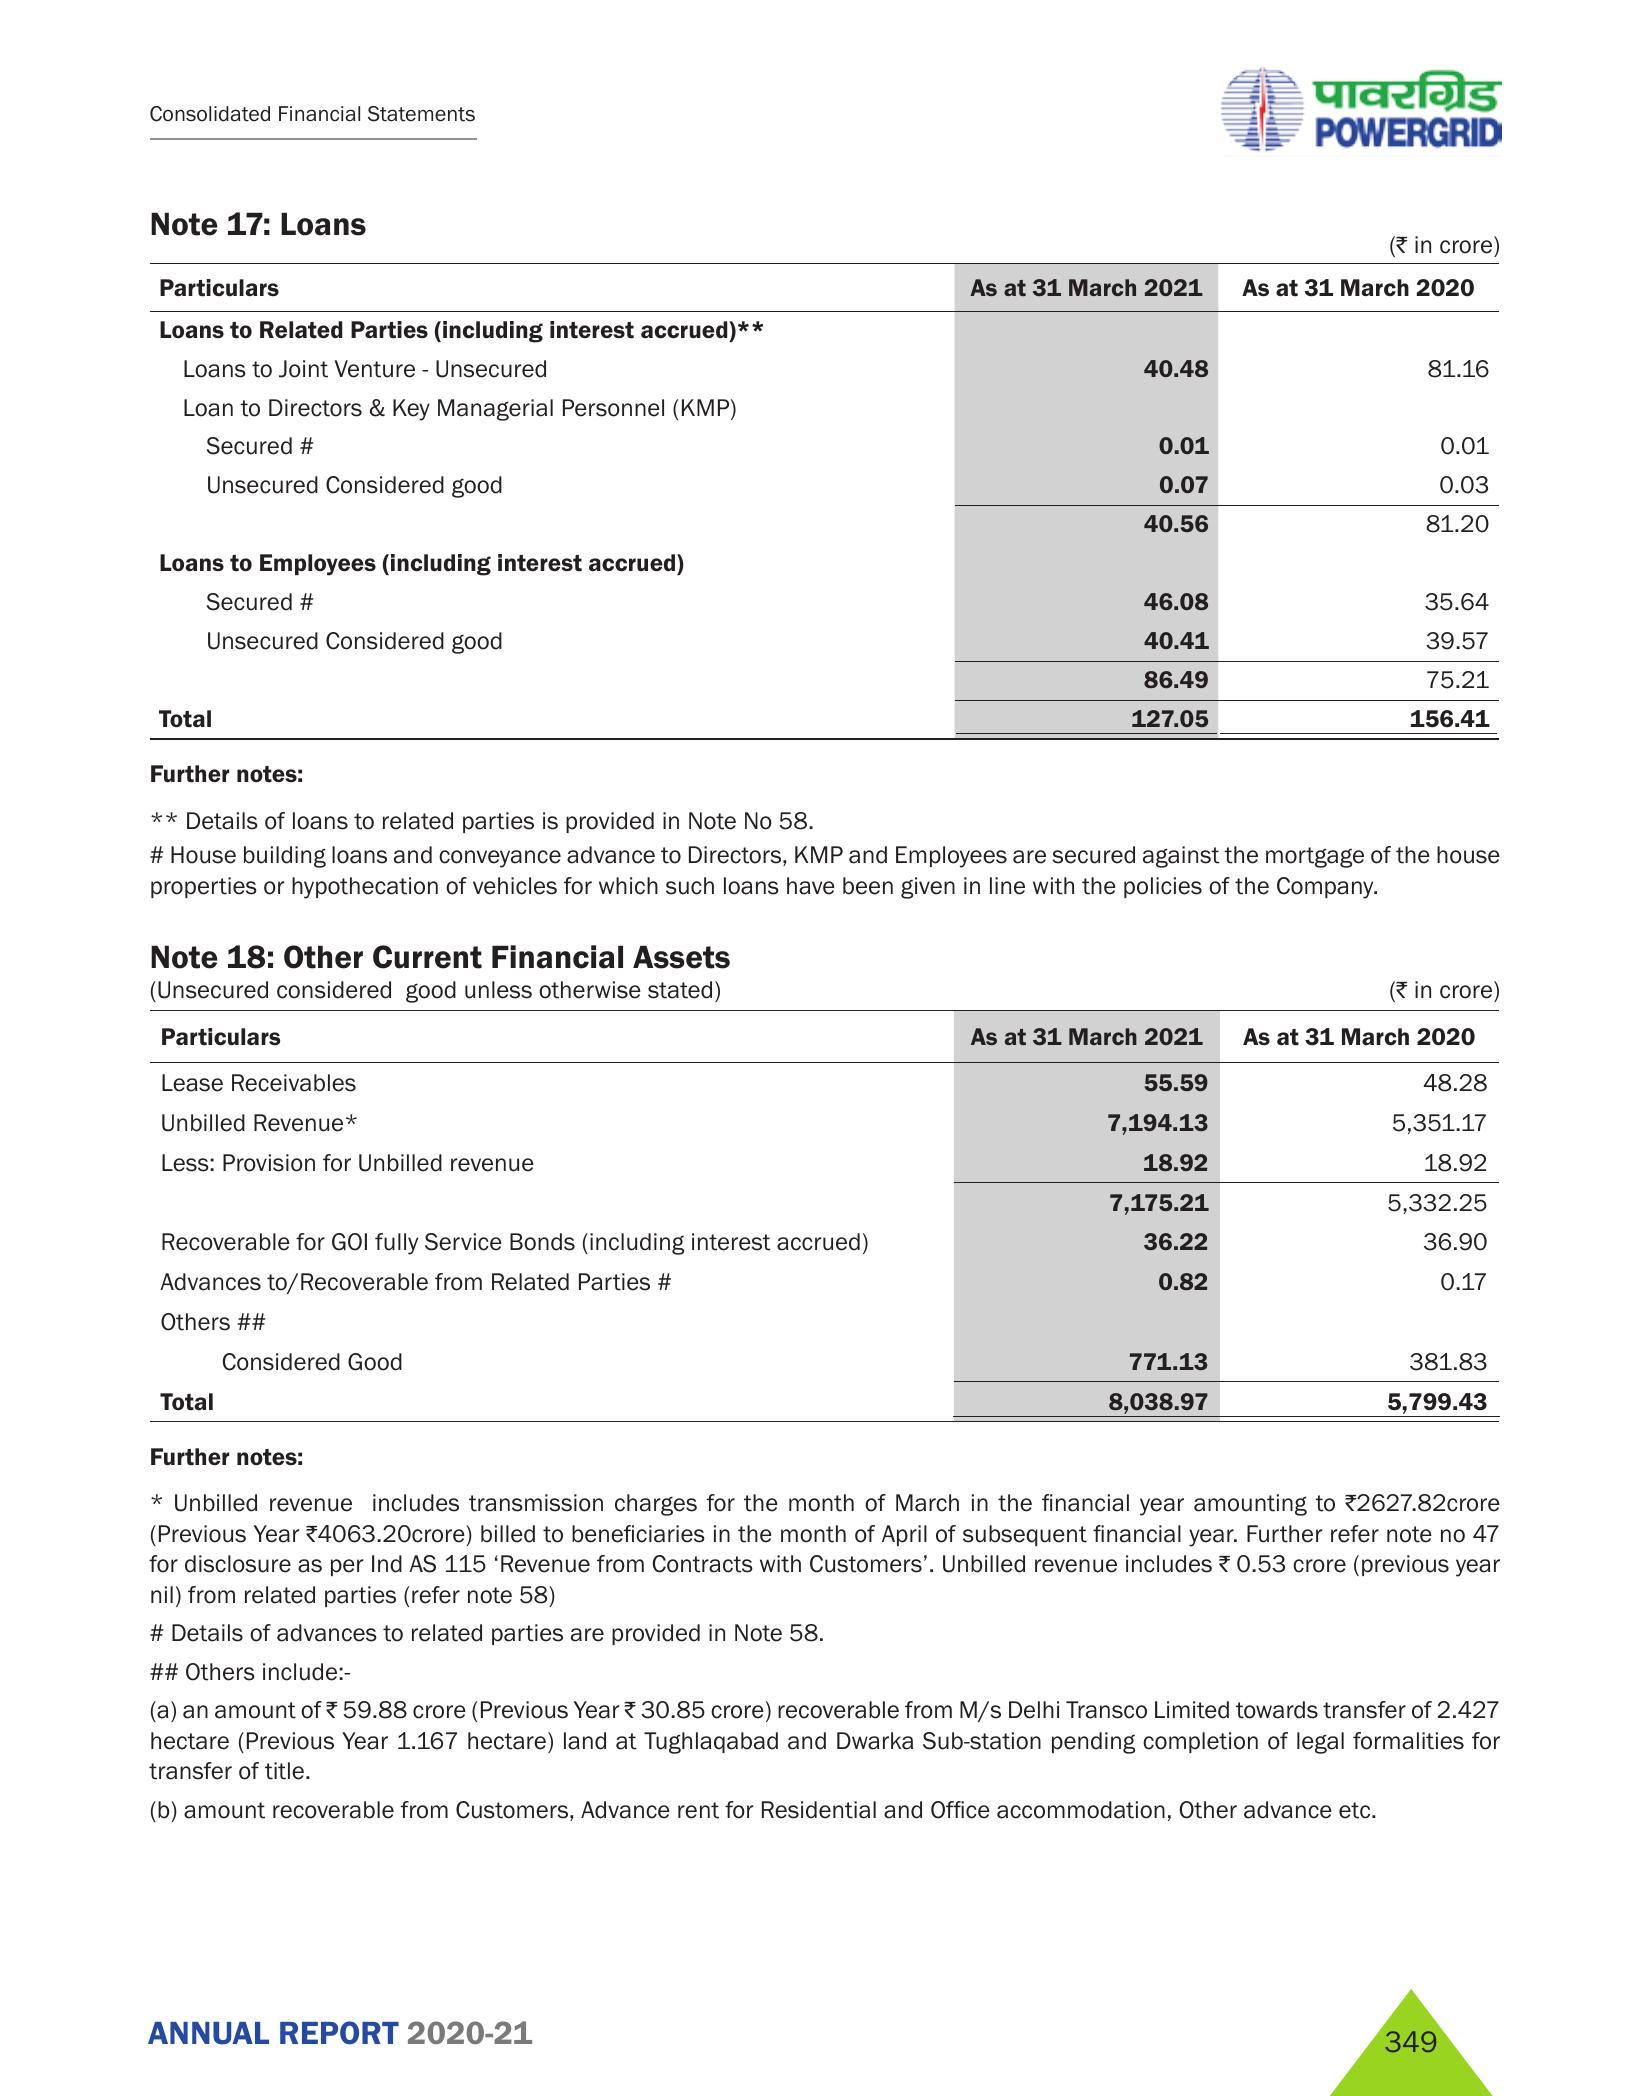Footer: (0, 1968, 1650, 2096)
Header: (0, 0, 1650, 158)
Table: (129, 265, 1511, 732), (126, 1005, 1511, 1417)
